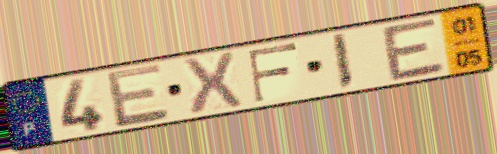4: (58, 75, 108, 134)
E: (103, 61, 173, 131), (378, 15, 449, 84)
F: (246, 41, 301, 105)
I: (329, 31, 356, 93)
X: (178, 49, 246, 118)
